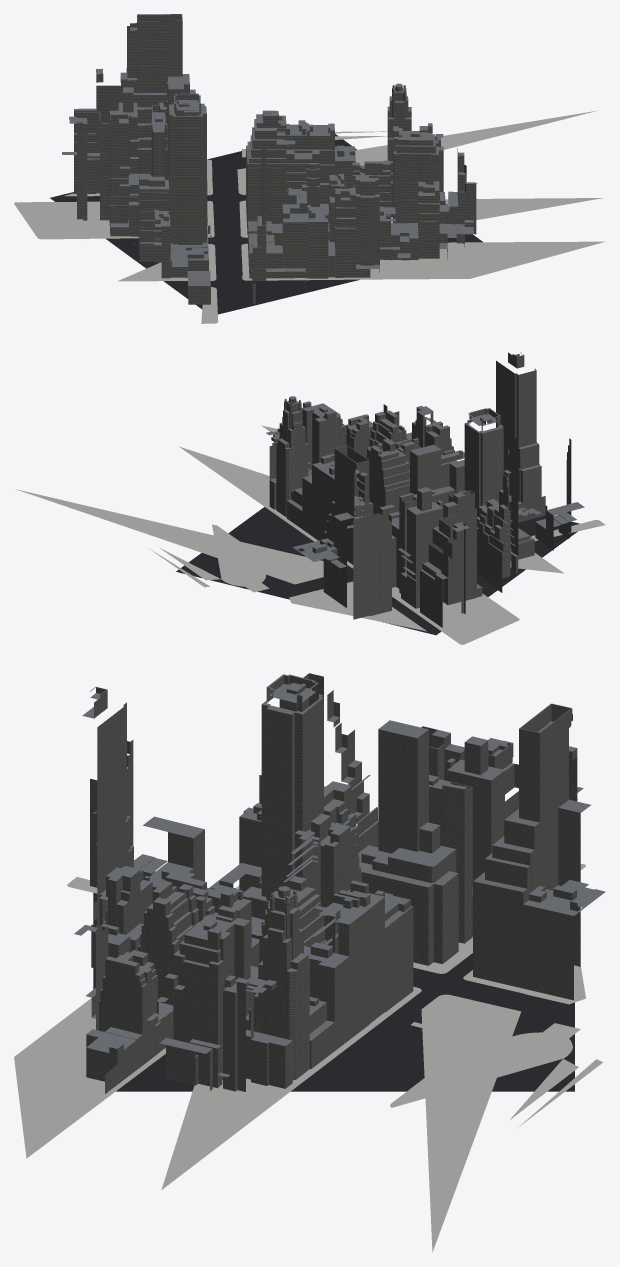
The picture shows the model from 3 angles, top to bottom: view 1: azimuth 30°, elevation 25°; view 2: azimuth 150°, elevation 25°; view 3: azimuth 270°, elevation 25°; orthographic projection. The views are drawn at different scales.
Parts seen in each view (by area): view 1: t3_7, detail; view 2: t3_7, detail; view 3: t3_7, detail.
Part boxes in pixels (x1=…): t3_7: x1=50, y1=14, x2=482, y2=314; detail: x1=14, y1=110, x2=604, y2=323; t3_7: x1=176, y1=352, x2=584, y2=635; detail: x1=16, y1=425, x2=605, y2=644; t3_7: x1=74, y1=673, x2=605, y2=1093; detail: x1=14, y1=864, x2=602, y2=1252.
Bounding box in the file's own units: 493 × 145 × 307.
4 materials, 2 textured.
